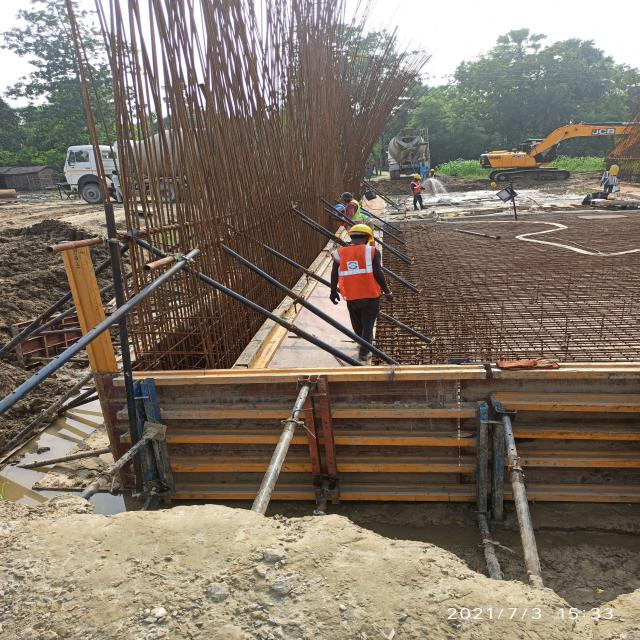Boots: (359, 350, 372, 360), (414, 207, 419, 210), (419, 207, 426, 209)
Hardhat: (346, 224, 376, 241), (414, 175, 421, 179)
Machinary: (478, 122, 639, 183), (58, 144, 128, 200), (386, 127, 430, 181)
No-Hardhat: (339, 192, 352, 199), (421, 162, 426, 165)
No-safetyvest: (420, 165, 427, 173)
Person: (328, 222, 394, 354), (600, 164, 622, 199), (341, 193, 364, 223), (411, 174, 426, 210), (428, 169, 437, 196), (420, 162, 429, 181), (365, 163, 373, 182)
Safetyvest: (329, 240, 387, 300), (345, 200, 362, 221), (604, 170, 617, 186), (411, 180, 422, 193), (430, 174, 436, 181)
